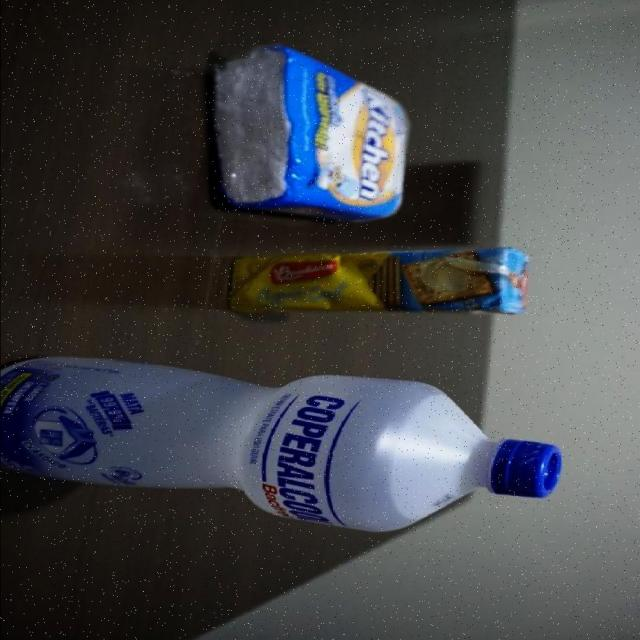AlcoholBottle: (0, 354, 563, 532)
Cracker: (222, 245, 531, 316)
Napkin: (206, 43, 412, 225)
